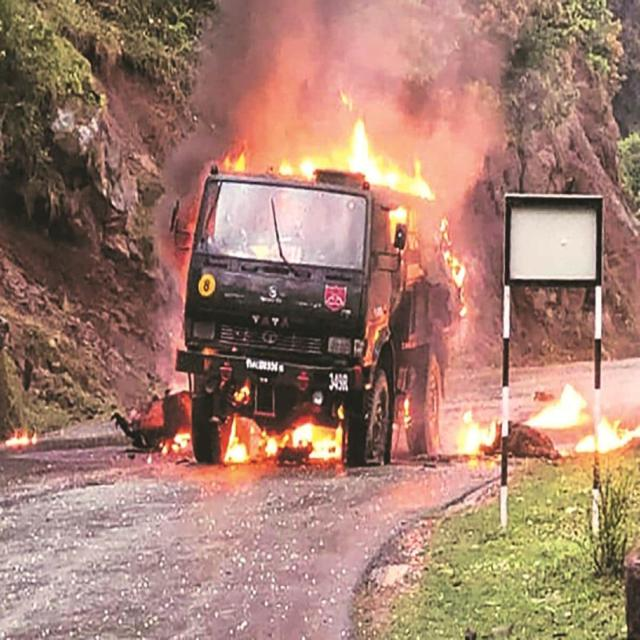accident: (170, 73, 460, 465)
